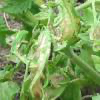Tomato leaf mosaic virus: (30, 32, 54, 88)
